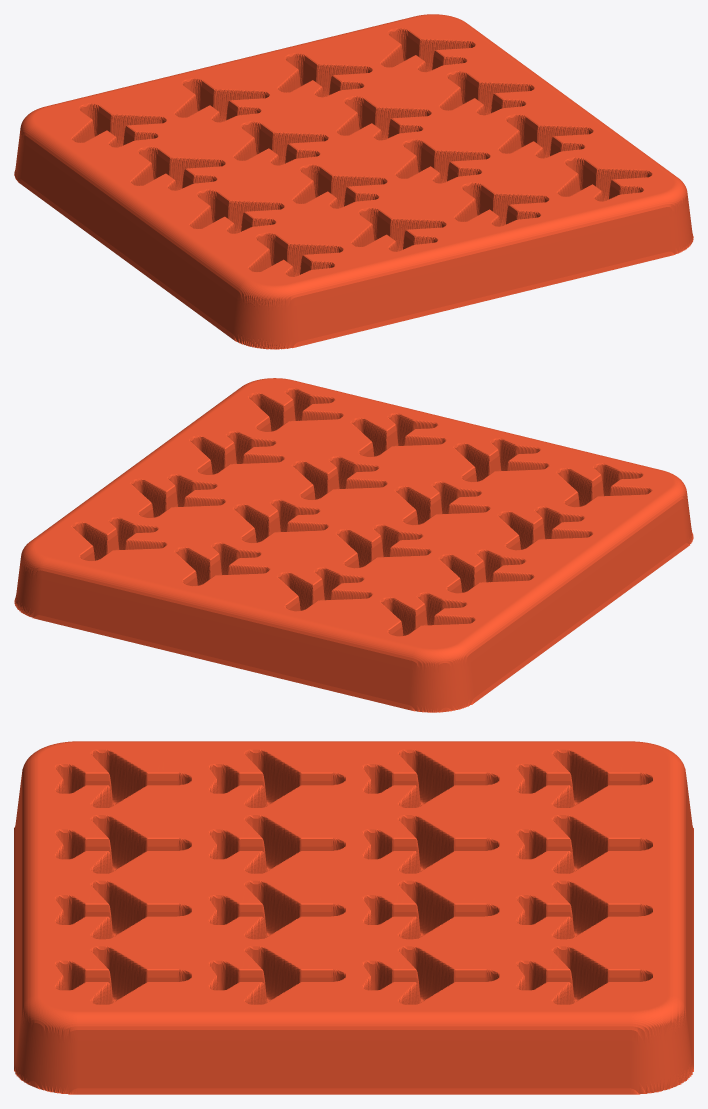
File: mold.glb
The picture shows the model from 3 angles, top to bottom: view 1: azimuth 30°, elevation 25°; view 2: azimuth 150°, elevation 25°; view 3: azimuth 270°, elevation 25°; orthographic projection. The views are drawn at different scales.
Visible parts, largest first — view 1: geometry_0; view 2: geometry_0; view 3: geometry_0.
Part boxes in pixels (bbox=[...]): geometry_0: bbox=[14, 14, 693, 349]; geometry_0: bbox=[14, 378, 693, 712]; geometry_0: bbox=[14, 741, 693, 1094].
Size of the model in its own units: 0.0972 by 0.0114 by 0.0964.
